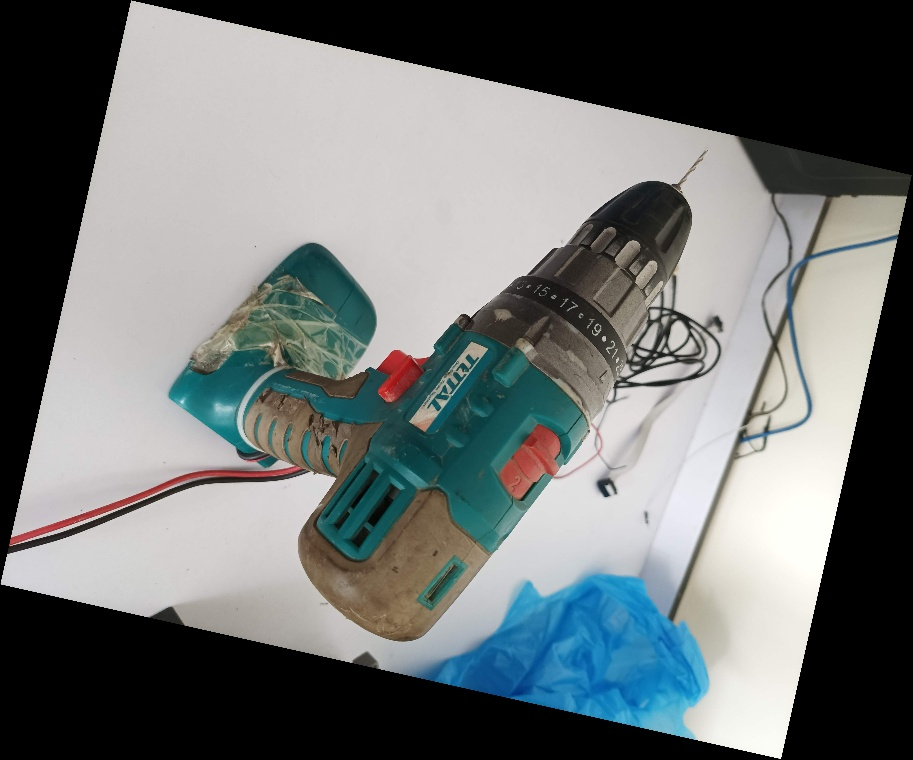driller: (160, 145, 711, 646)
